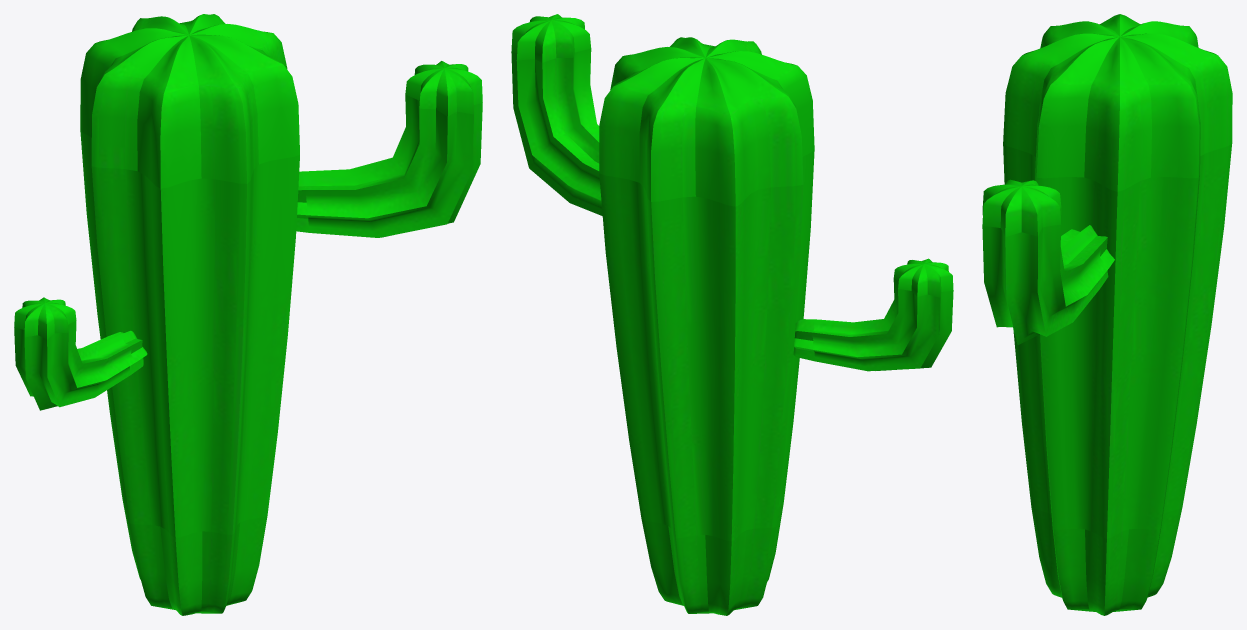
File: kaktusz.fbx
The picture shows the model from 3 angles, left to right: view 1: azimuth 30°, elevation 25°; view 2: azimuth 150°, elevation 25°; view 3: azimuth 270°, elevation 25°; orthographic projection. The views are drawn at different scales.
Visible parts, largest first — view 1: Sweep_1_1; view 2: Sweep_1_1; view 3: Sweep_1_1.
Part boxes in pixels (x1,y1,x2,y2): Sweep_1_1: [14, 14, 482, 615]; Sweep_1_1: [511, 14, 953, 615]; Sweep_1_1: [982, 14, 1232, 615].
Size of the model in its own units: 20.66 by 25.34 by 9.93.
Materials: 1 (1 with a texture image).
